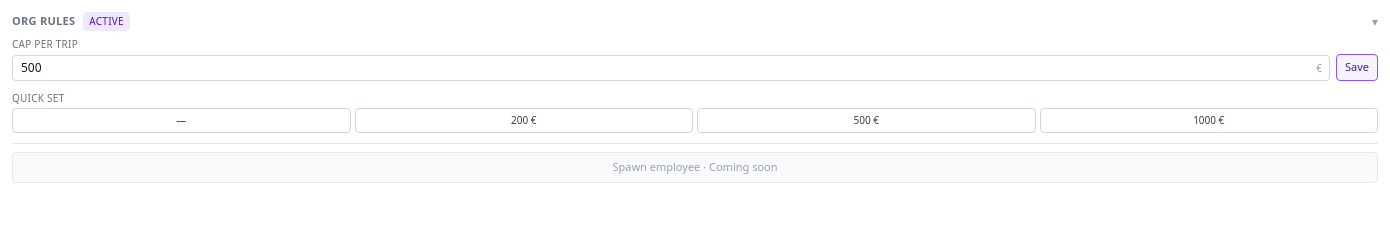
Test case: OrgRulesSection › renders a save error when PATCH returns non-2xx
Replace the text in the number field with test id "dev-org-rules-cap-input" with "1000": (671, 68) [12,55,1330,81]
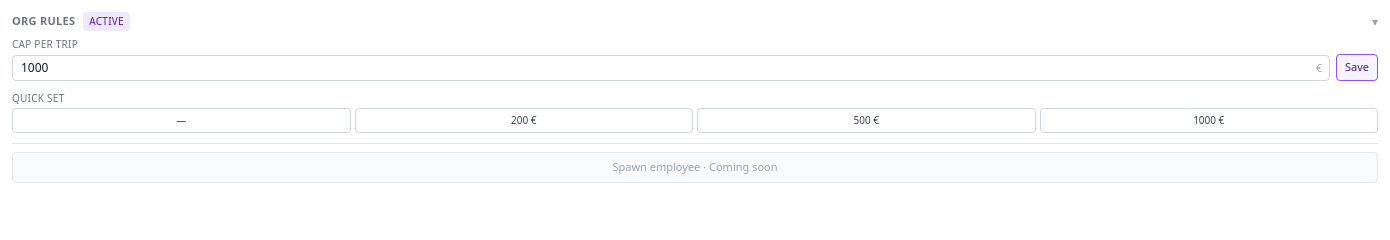
Click the button with test id "dev-org-rules-save": (1357, 68) [1336,54,1378,81]
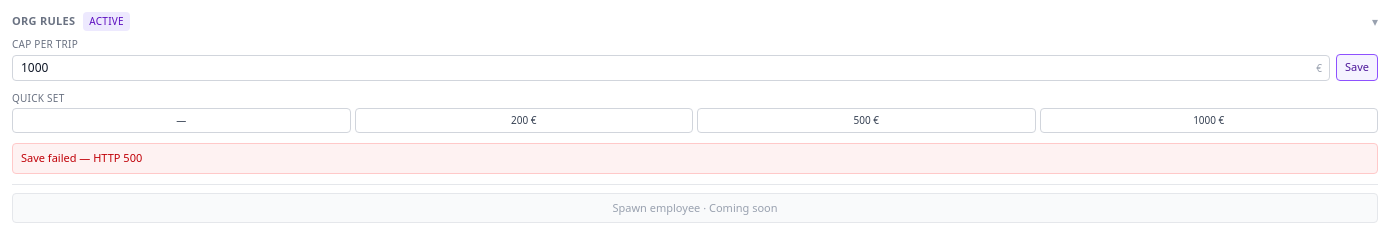
Expected: the text "Save failed — HTTP 500" is shown, [12,143,1378,174]
